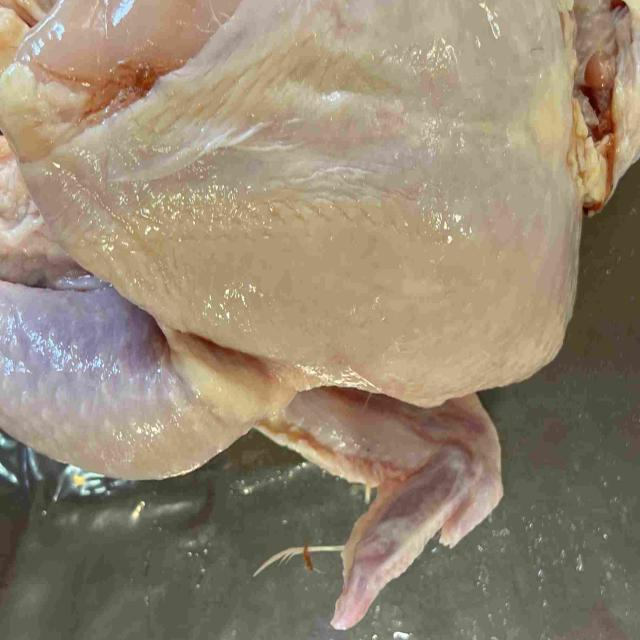breast: (1, 0, 583, 395)
leg: (0, 277, 304, 476)
neck: (569, 0, 640, 196)
wing: (267, 376, 504, 630)
